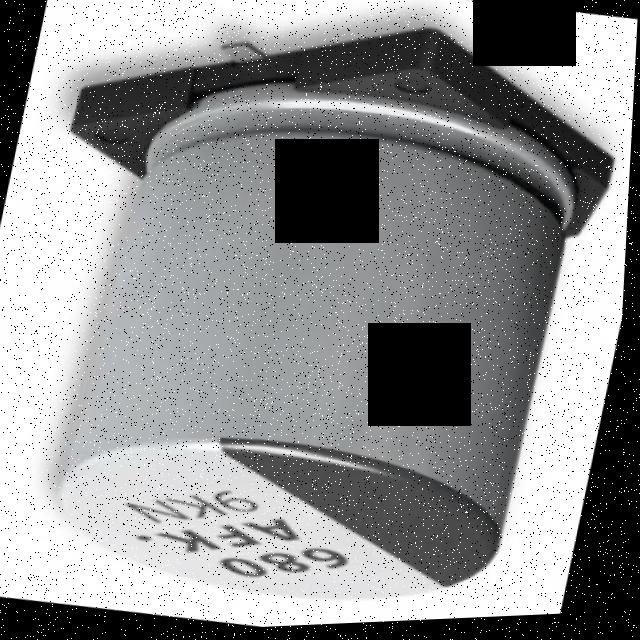capacitor 1V5: (19, 11, 610, 638)
